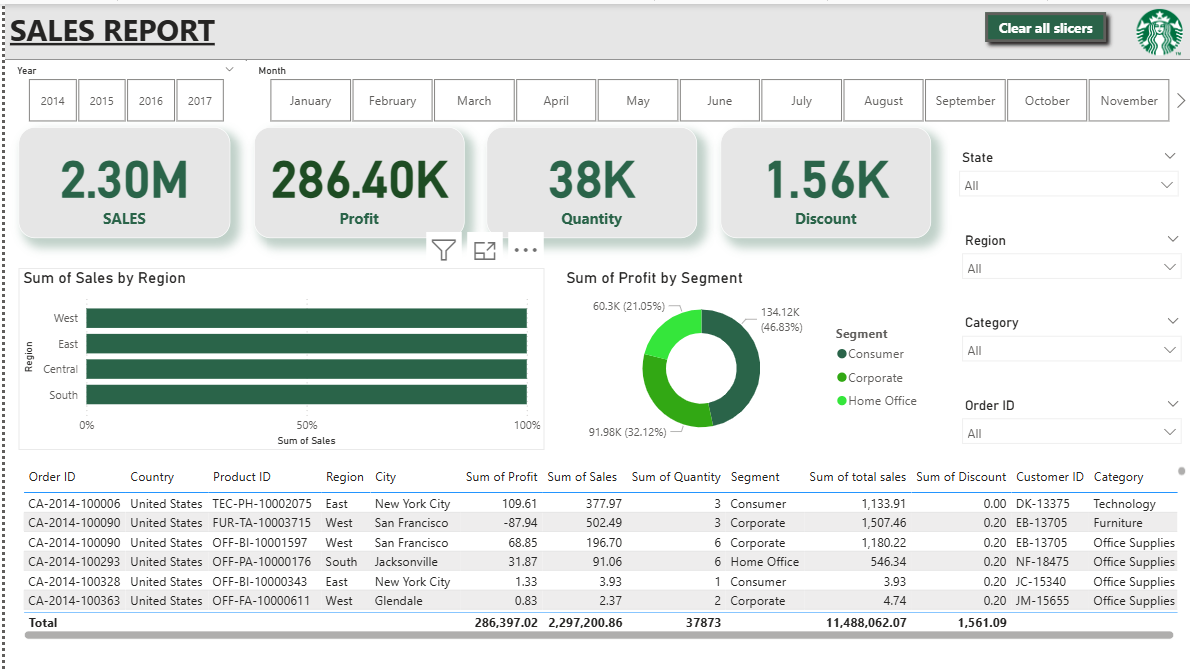

The dashboard page shown, as its layout file describes it:
{"tool":"powerbi","page":{"name":"SALES Report","canvas":[1280,720],"ordinal":0},"visuals":[{"type":"textbox","box":[0,0,1280,60],"z":0},{"type":"image","box":[1213.3,0,66.7,60],"z":1000},{"type":"shape","box":[0,41.7,1280,36.7],"z":2000},{"type":"slicer","fields":{"Values":["dimTable.Date.Variation.Date Hierarchy.Year"]},"box":[0,60,260,73.3],"z":3000},{"type":"slicer","fields":{"Values":["dimTable.Date.Variation.Date Hierarchy.Month"]},"box":[260,60,1020,73.3],"z":4000},{"type":"card","fields":{"Values":["Sum(Orders (2).Sales)"]},"box":[15,133.3,228.3,120],"z":5000},{"type":"card","fields":{"Values":["Sum(Orders (2).Profit)"]},"box":[268.1,133.3,227,120],"z":6000},{"type":"card","fields":{"Values":["Sum(Orders (2).Quantity)"]},"box":[519.9,133.3,227,120],"z":7000},{"type":"card","fields":{"Values":["Sum(Orders (2).Discount)"]},"box":[771.7,133.3,227,120],"z":8000},{"type":"hundredPercentStackedBarChart","fields":{"Y":["Sum(Orders (2).Sales)"],"Category":["Orders (2).Region"]},"box":[15,285,568.3,196.7],"z":9000},{"type":"donutChart","fields":{"Y":["Sum(Orders (2).Profit)"],"Category":["Orders (2).Segment"]},"box":[600,285,398.3,196.7],"z":10000},{"type":"tableEx","fields":{"Values":["Orders (2).Order ID","Orders (2).Country","Orders (2).Product ID","Orders (2).Region","Orders (2).City","Sum(Orders (2).Profit)","Sum(Orders (2).Sales)","Sum(Orders (2).Quantity)","Orders (2).Segment","Sum(Orders (2).total sales)","Sum(Orders (2).Discount)","Orders (2).Customer ID"]},"box":[15,493.3,1265,196.7],"z":11000},{"type":"slicer","fields":{"Values":["Orders (2).State"]},"box":[1020,152.2,256.7,75],"z":12000},{"type":"slicer","fields":{"Values":["Orders (2).Order ID"]},"box":[1023.3,420,256.7,75],"z":13000},{"type":"slicer","fields":{"Values":["Orders (2).Category"]},"box":[1023.3,330.7,256.7,75],"z":14000},{"type":"slicer","fields":{"Values":["Orders (2).Region"]},"box":[1023.3,241.5,256.7,75],"z":15000},{"type":"actionButton","box":[1050,0,148.3,50],"z":16000}]}

Visuals, with their boxes in screenshot pixels (x1, y1, x2, y2), scaled from the page's 1280x720 canvas onto the 1190x671 screenshot:
textbox: 0, 0, 1189, 56
image: 1128, 0, 1189, 56
shape: 0, 39, 1189, 73
slicer - dimTable.Date.Variation.Date Hierarchy.Year: 0, 56, 242, 124
slicer - dimTable.Date.Variation.Date Hierarchy.Month: 242, 56, 1189, 124
card - Sum(Orders (2).Sales): 14, 124, 226, 236
card - Sum(Orders (2).Profit): 249, 124, 460, 236
card - Sum(Orders (2).Quantity): 483, 124, 694, 236
card - Sum(Orders (2).Discount): 717, 124, 928, 236
hundredPercentStackedBarChart - Sum(Orders (2).Sales) x Orders (2).Region: 14, 266, 542, 449
donutChart - Sum(Orders (2).Profit) x Orders (2).Segment: 558, 266, 928, 449
tableEx - Orders (2).Order ID x Orders (2).Country: 14, 460, 1189, 643
slicer - Orders (2).State: 948, 142, 1187, 212
slicer - Orders (2).Order ID: 951, 391, 1189, 461
slicer - Orders (2).Category: 951, 308, 1189, 378
slicer - Orders (2).Region: 951, 225, 1189, 295
actionButton: 976, 0, 1114, 47
